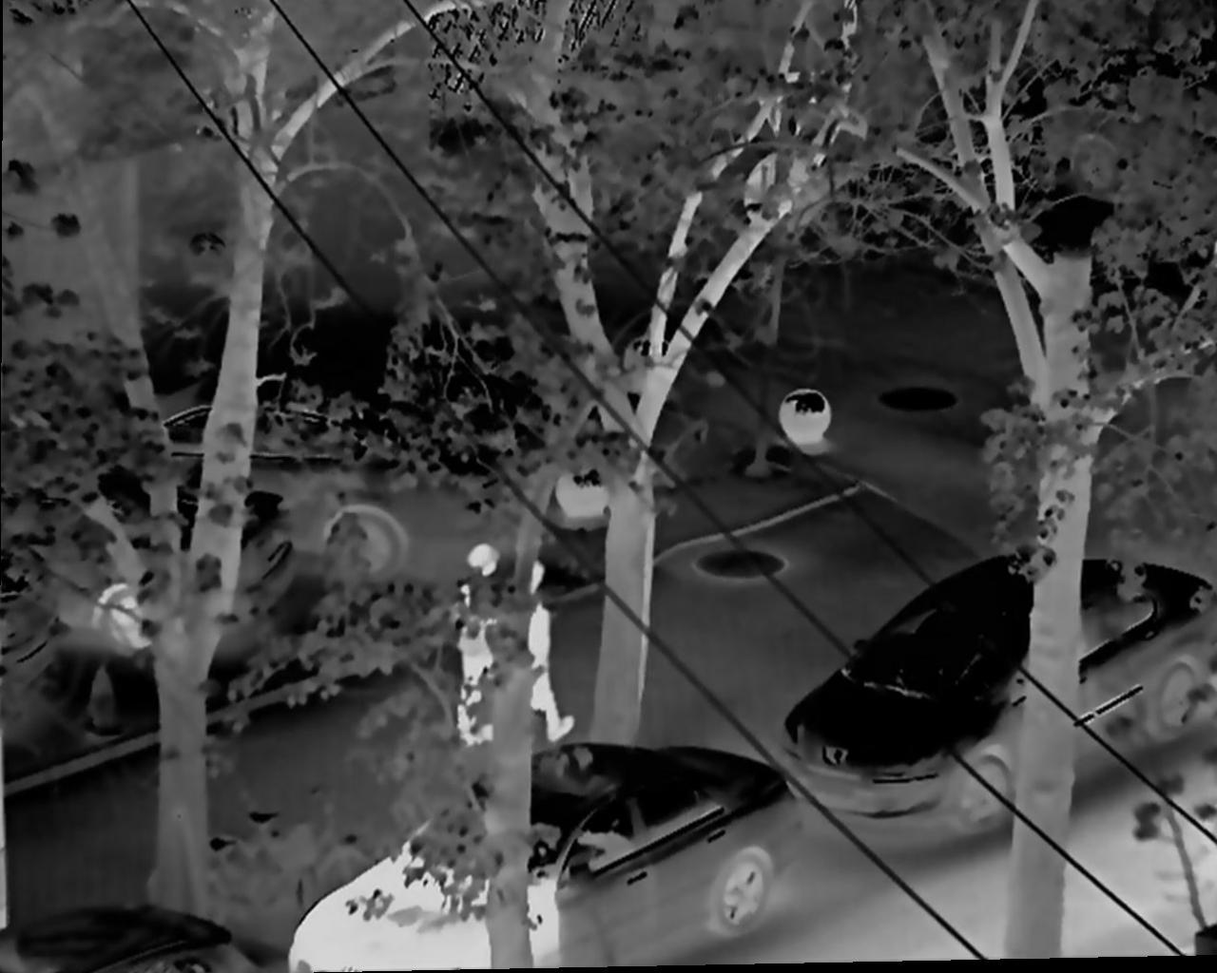person: (503, 563, 576, 754), (450, 544, 516, 753)
